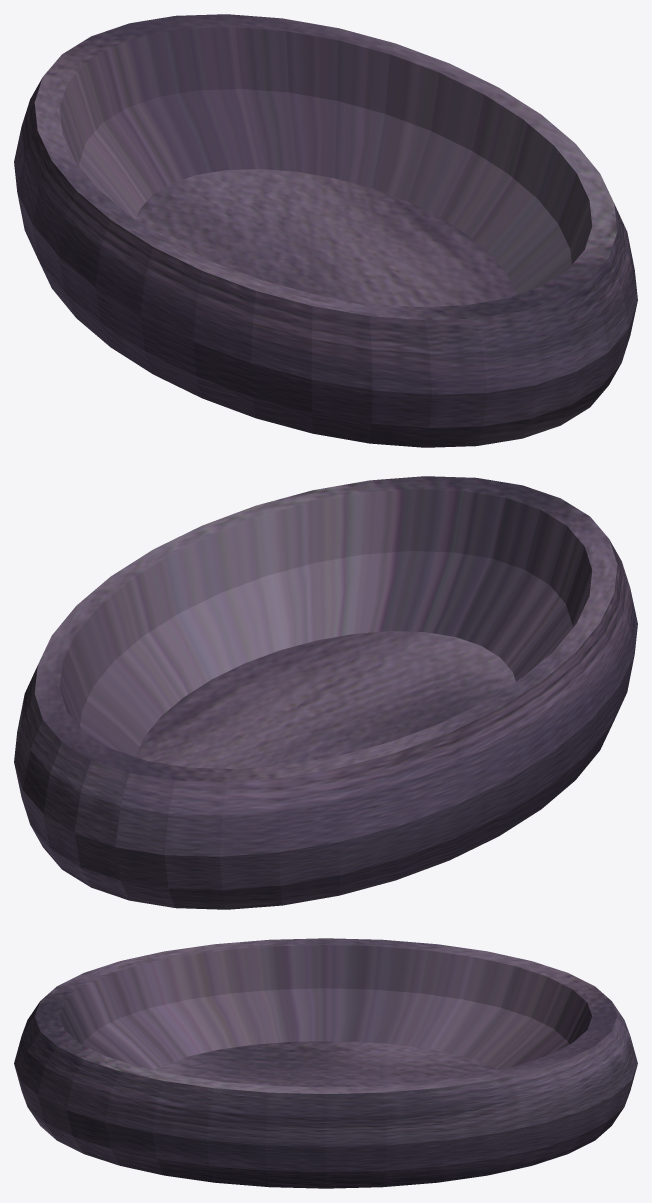
File: saboneteira.fbx
3 renders of one model, top to bottom at view 1: azimuth 30°, elevation 25°; view 2: azimuth 150°, elevation 25°; view 3: azimuth 270°, elevation 25°, orthographic. The views are drawn at different scales.
Parts seen in each view (by area): view 1: Cylinder; view 2: Cylinder; view 3: Cylinder.
Boxes of the visible parts, x1=… form: Cylinder: x1=14, y1=14, x2=637, y2=447; Cylinder: x1=14, y1=476, x2=637, y2=909; Cylinder: x1=14, y1=938, x2=637, y2=1188.
Size of the model in its own units: 136 by 35.8 by 214.
Materials: 1 (1 with a texture image).
